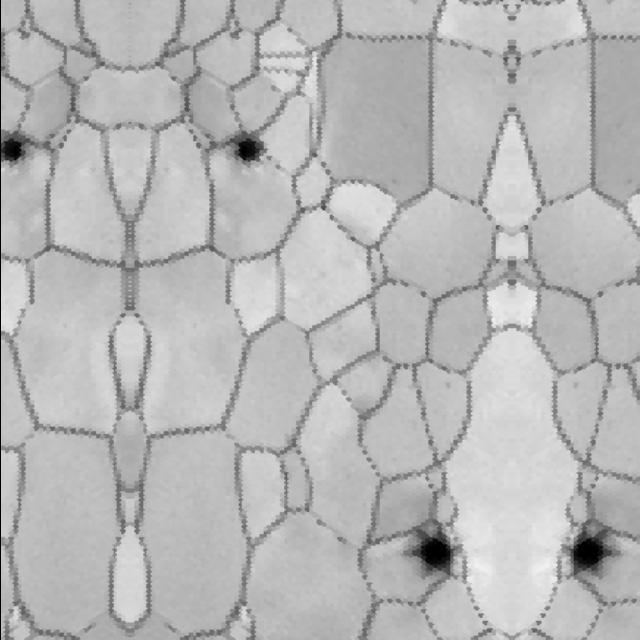good_void: (399, 522, 461, 582), (560, 522, 622, 582), (219, 131, 269, 170), (0, 131, 37, 170), (223, 27, 242, 45), (14, 27, 33, 45), (442, 379, 452, 390), (569, 379, 579, 390)
